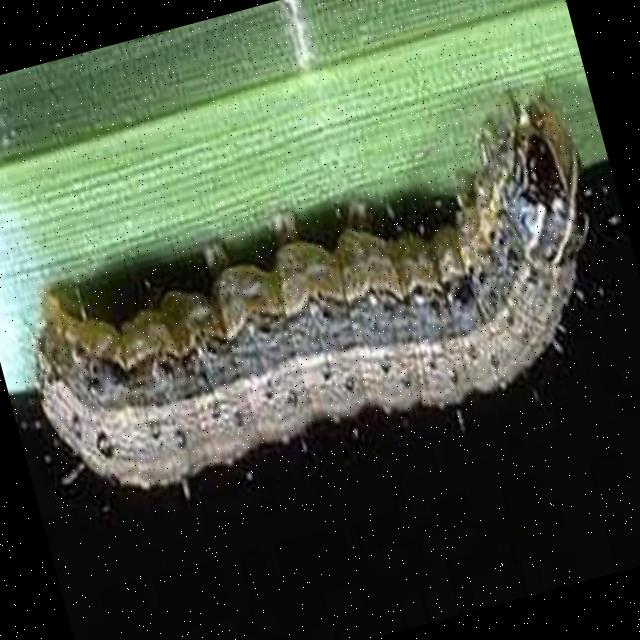worm: (1, 74, 640, 537)
